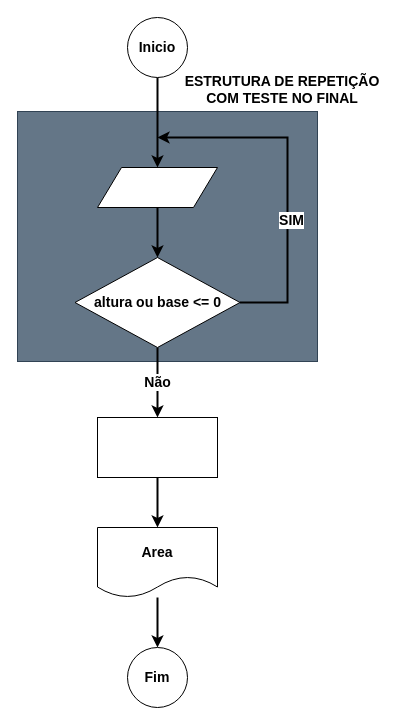
The diagram is 415 pixels wide and 725 high, and some of its shapes have lost their labels. The shapes that lost their labels are listed below. From the top down, each one's centre as x and y in pixels, then its label:
(x=157, y=187): base, altura
(x=157, y=447): Calculo da Area
